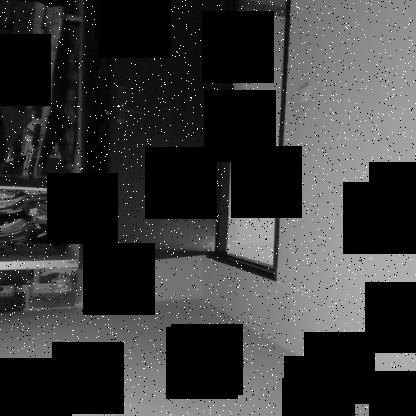Porte: (101, 1, 295, 284)
